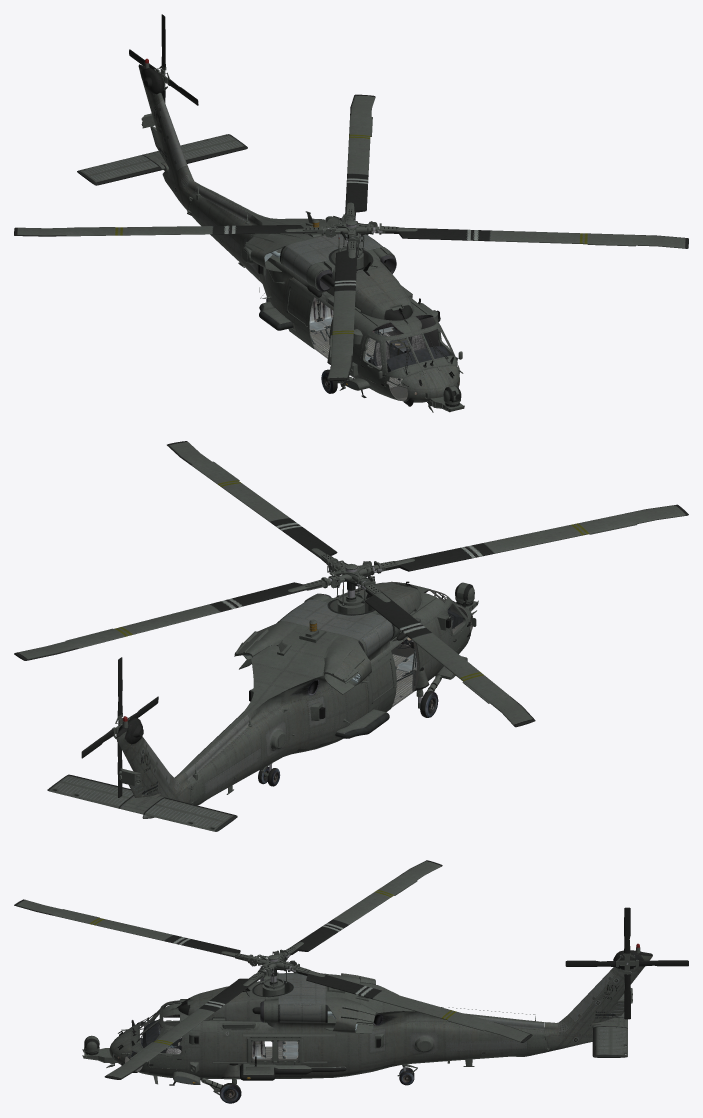
The picture shows the model from 3 angles, top to bottom: view 1: azimuth 30°, elevation 25°; view 2: azimuth 150°, elevation 25°; view 3: azimuth 270°, elevation 25°; orthographic projection. The views are drawn at different scales.
Visible parts, largest first — view 1: SH-60B Seahawk Helicopter; view 2: SH-60B Seahawk Helicopter; view 3: SH-60B Seahawk Helicopter.
Part boxes in pixels (<box>): SH-60B Seahawk Helicopter: <box>14,14,688,412</box>; SH-60B Seahawk Helicopter: <box>14,441,688,831</box>; SH-60B Seahawk Helicopter: <box>14,860,688,1103</box>.
Bounding box in the file's own units: 18.59 × 7.12 × 24.16.
3 materials, 3 textured.
